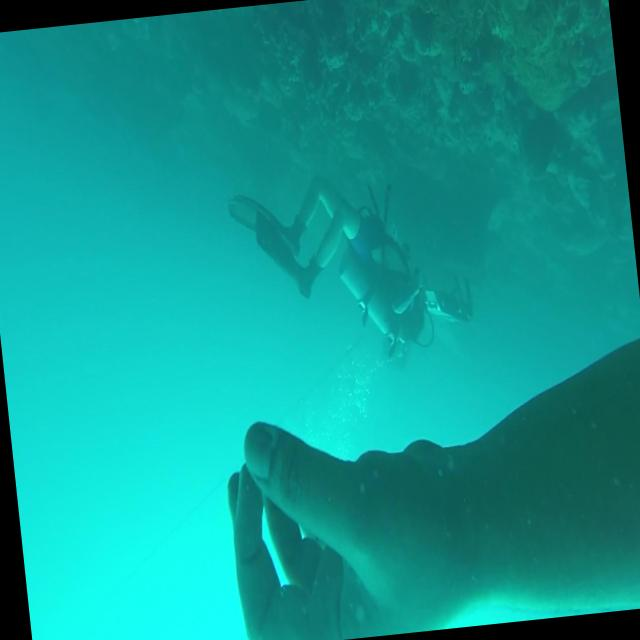human: (214, 335, 640, 640), (225, 164, 438, 377)
